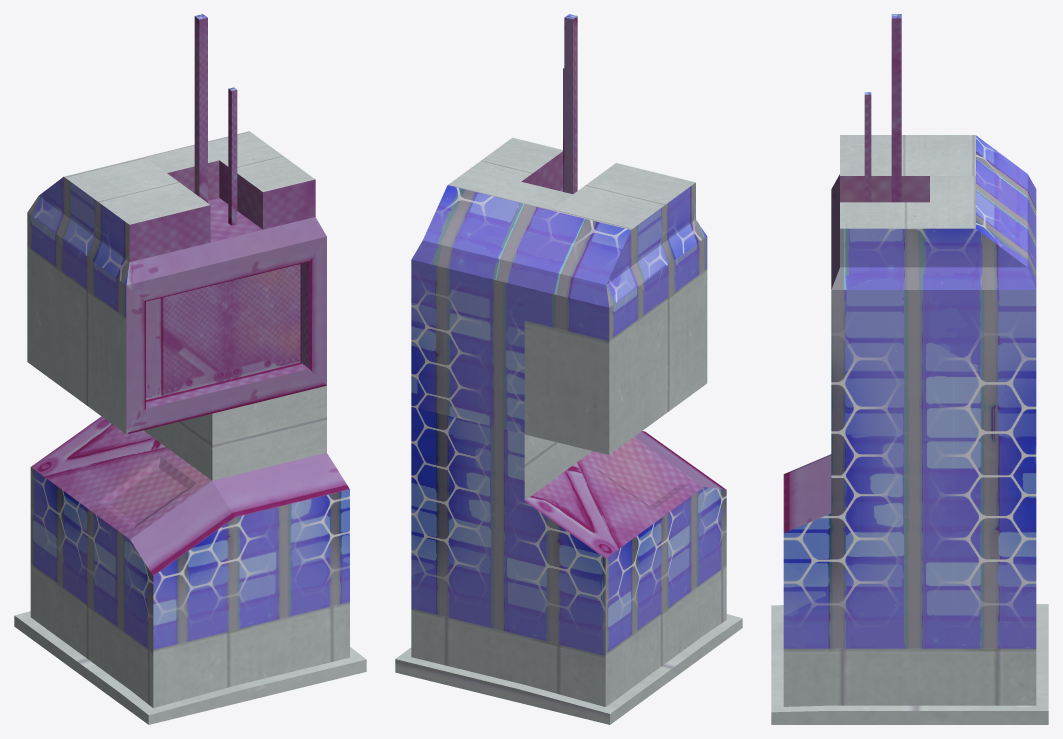
File: HourGlassBuilding.fbx
The picture shows the model from 3 angles, left to right: view 1: azimuth 30°, elevation 25°; view 2: azimuth 150°, elevation 25°; view 3: azimuth 270°, elevation 25°; orthographic projection. The views are drawn at different scales.
Visible parts, largest first — view 1: HourGlassBuilding; view 2: HourGlassBuilding; view 3: HourGlassBuilding.
Part boxes in pixels (x1,y1,x2,y2): HourGlassBuilding: (14, 14, 366, 724); HourGlassBuilding: (395, 14, 742, 724); HourGlassBuilding: (771, 14, 1048, 724).
Size of the model in its own units: 84.86 by 237 by 90.72.
